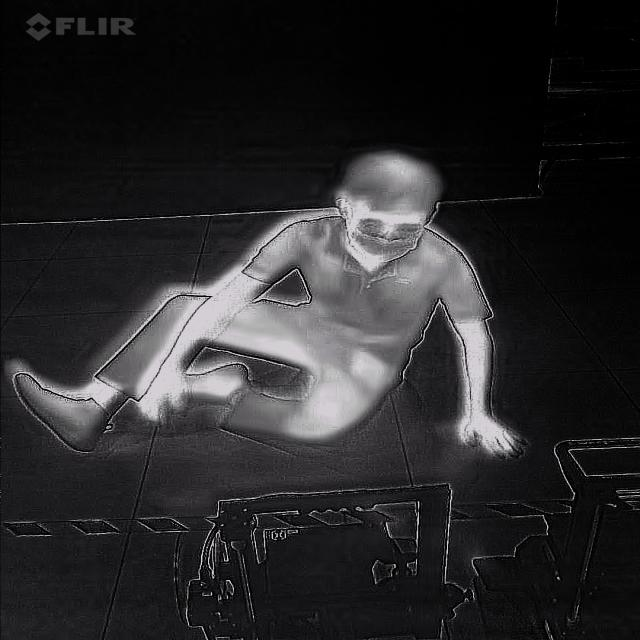Victim: (1, 150, 545, 467)
